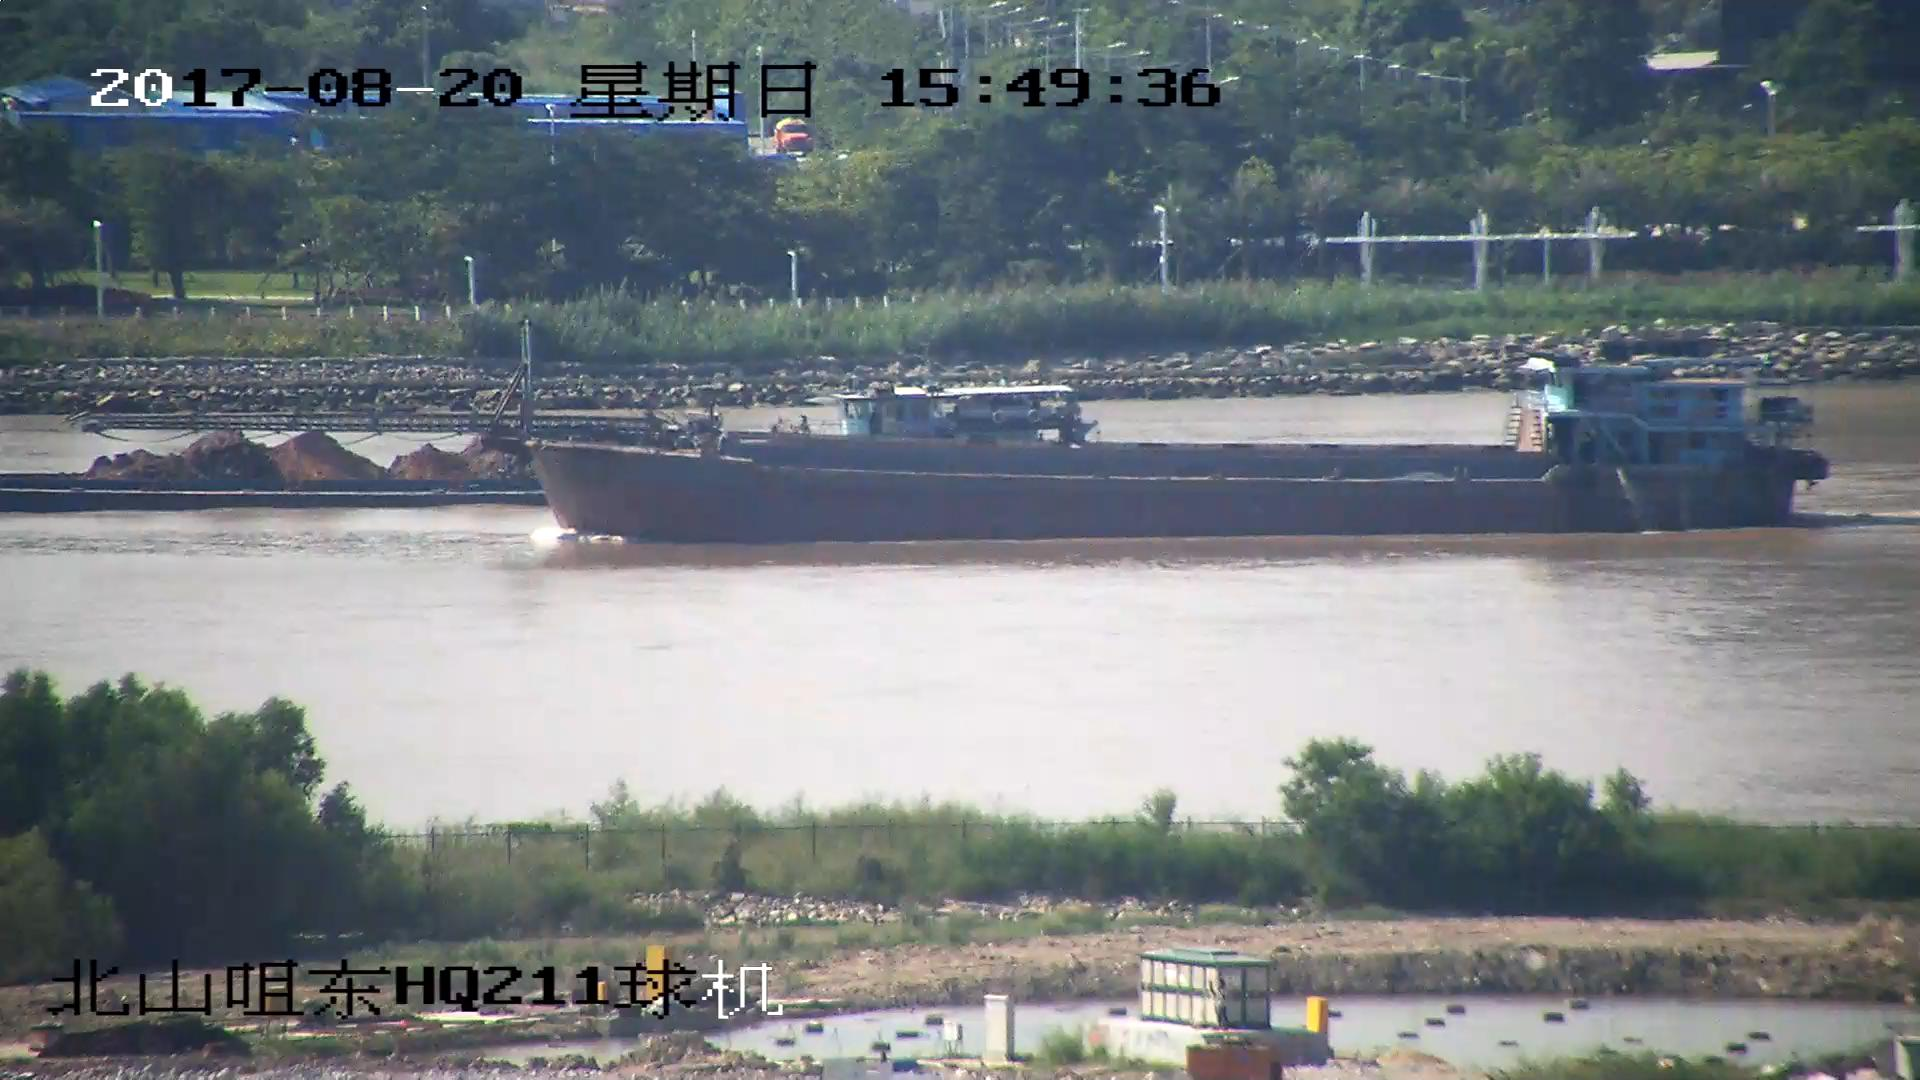bulk cargo carrier: (99, 348, 1827, 544)
ore carrier: (1, 382, 1093, 516)
